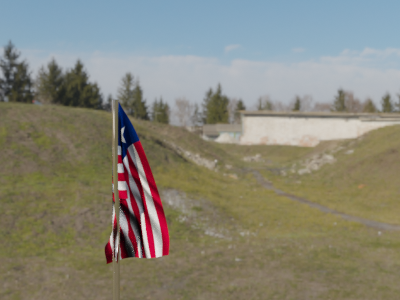Liberia flag: (104, 97, 173, 263)
